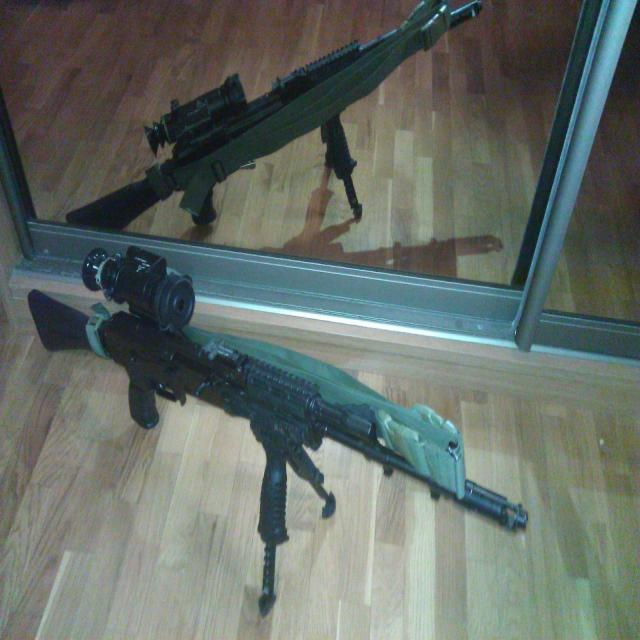firearm: (26, 240, 532, 621), (66, 0, 483, 232)
